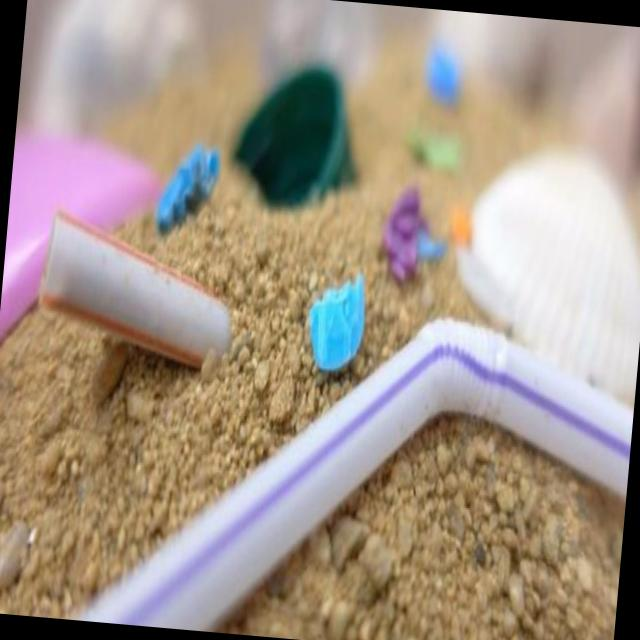electronic: (56, 281, 640, 640)
